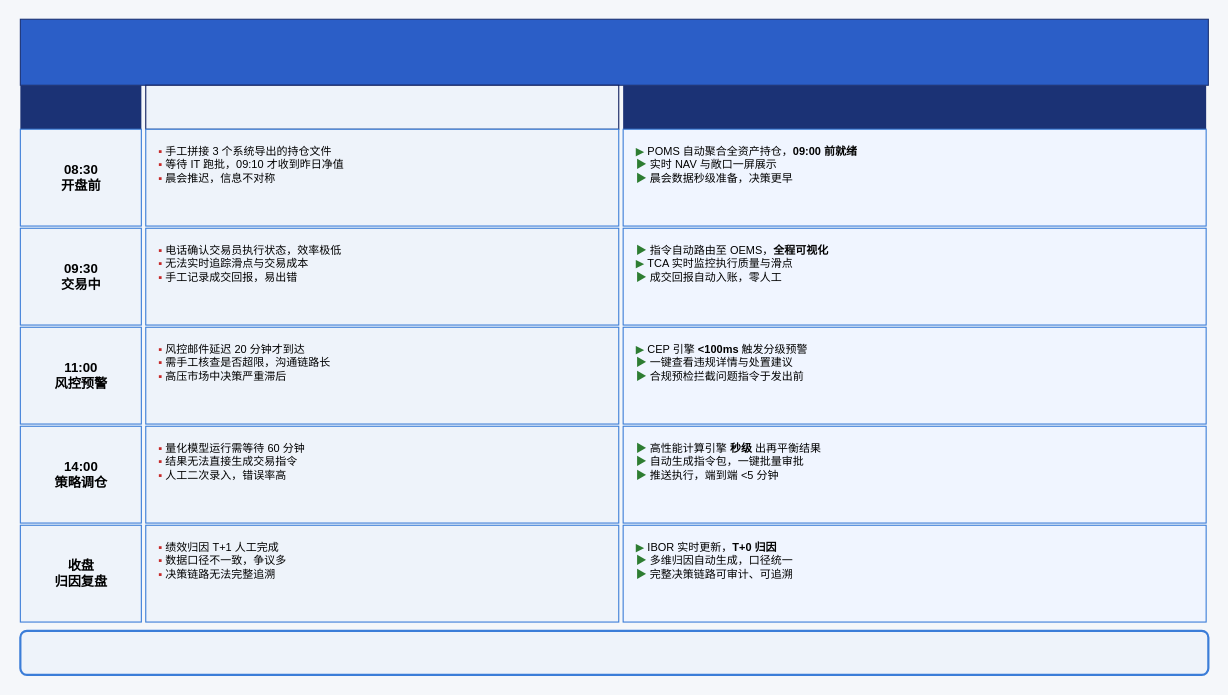
Some shapes in this 1228 by 695 pixel diagram are drawn without their labels. The centre of each missing label's shape, as x and y in pixels:
"✅ 有 POMS 之后" belongs at (914,107).
"❌ 现状（无 POMS）" belongs at (382,106).
"投资经理的一天 从手工拼数据到实时闭环驱动 — 有无 POMS 全天对比" belongs at (613,51).
"时间节点" belongs at (80,107).
"核心转变： 从 手工拼数据 · 事后归因 · 决策滞后 → 实时感知 · 系统执行 · 闭环驱动" belongs at (614,652).
